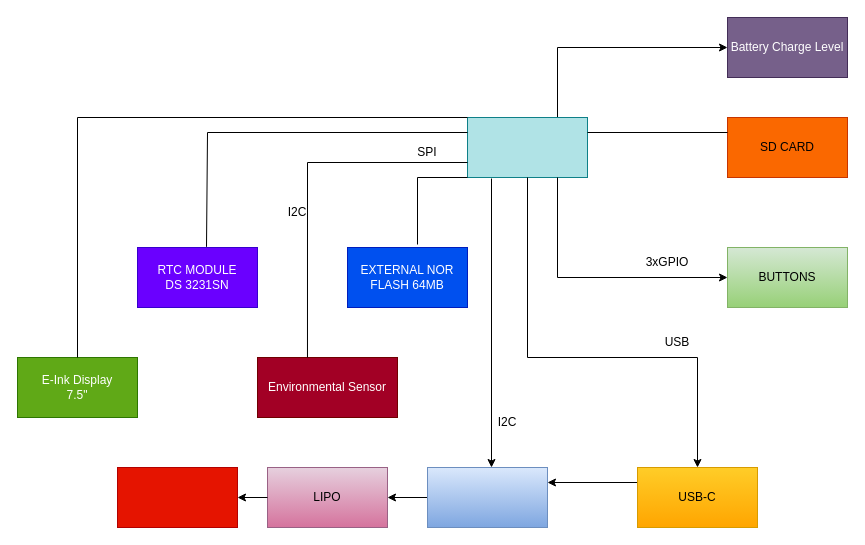
This 865x545 diagram has some shape labels left out. The centre of each missing label's shape, as x and y in pixels:
"3v3 LDO" goes at pixel 177 497.
"Battery Charger" goes at pixel 487 497.
"ESP32 C3 WROOM" goes at pixel 527 147.
